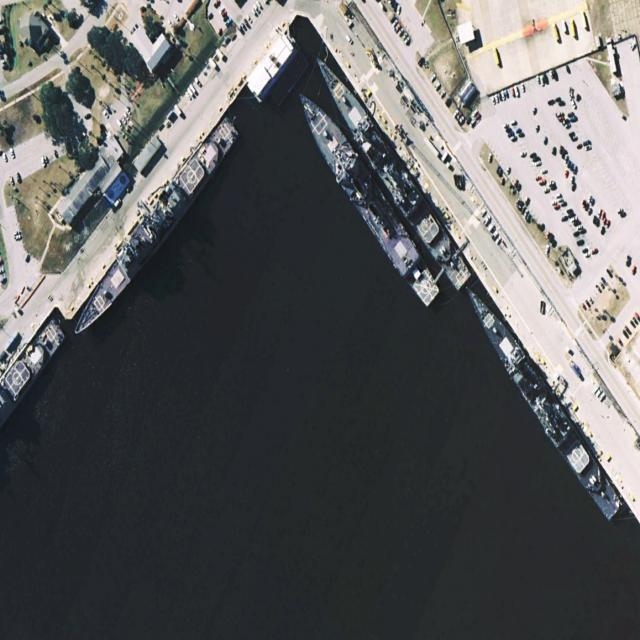Cruiser: (458, 276, 624, 526), (307, 46, 473, 295), (68, 112, 240, 347), (1, 314, 69, 410)
Destroyer: (291, 79, 442, 312)
